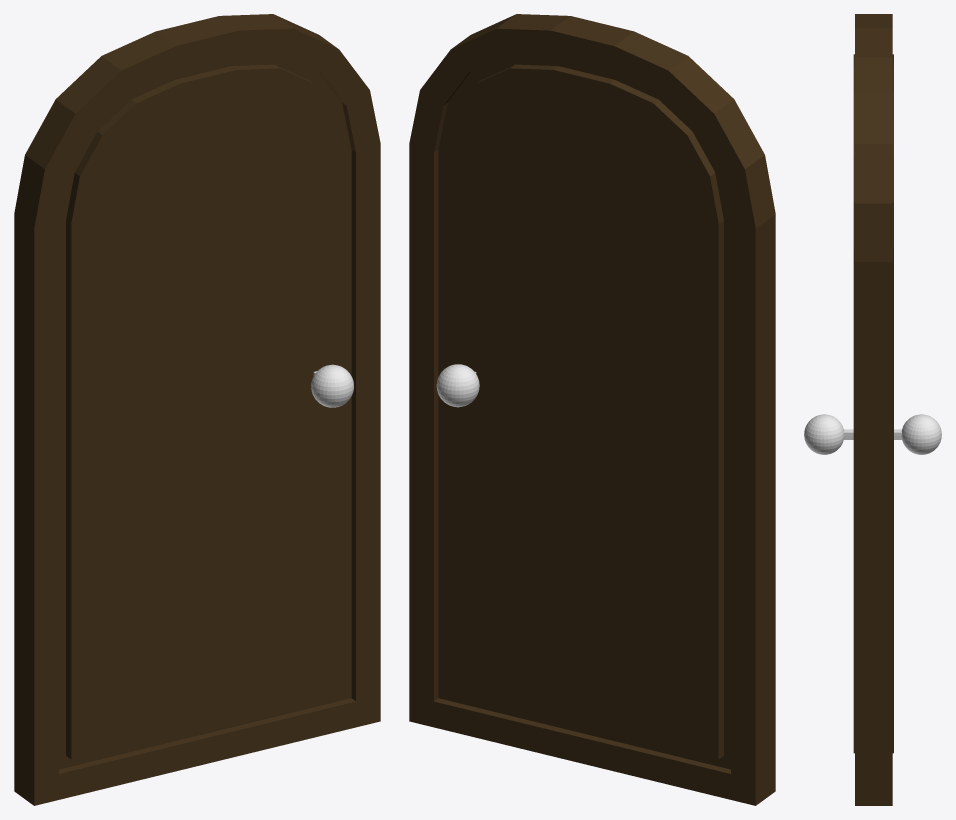
Rendered from Puerta.fbx.
The picture shows the model from 3 angles, left to right: view 1: azimuth 30°, elevation 25°; view 2: azimuth 150°, elevation 25°; view 3: azimuth 270°, elevation 25°; orthographic projection. The views are drawn at different scales.
Visible parts, largest first — view 1: Puerta; view 2: Puerta; view 3: Puerta.
Part boxes in pixels (<box>): Puerta: <box>14,14,380,805</box>; Puerta: <box>409,14,775,805</box>; Puerta: <box>804,14,941,805</box>.
Bounding box in the file's own units: 200 × 400 × 73.13.
